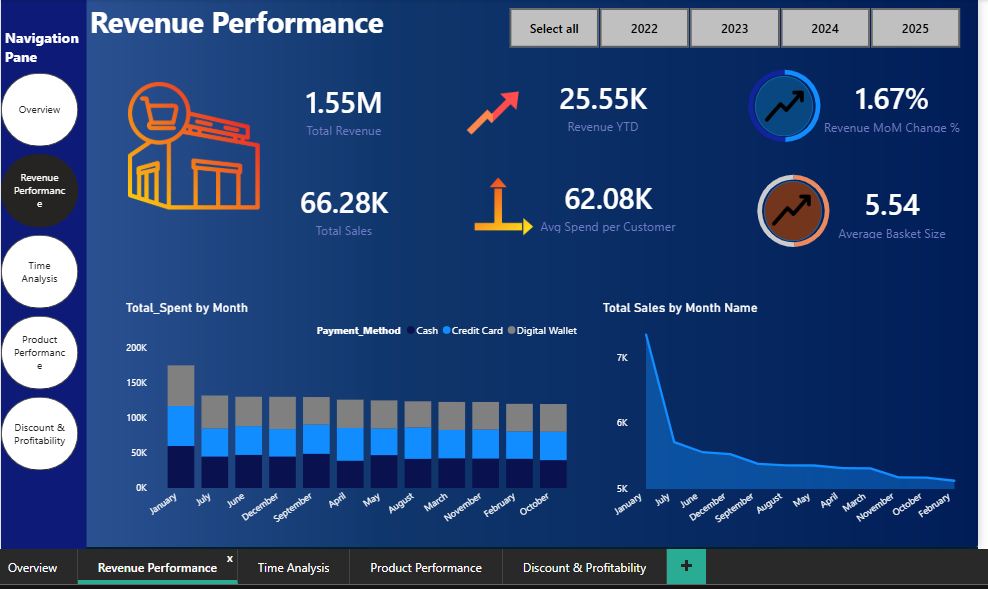

The dashboard page shown, as its layout file describes it:
{"tool":"powerbi","page":{"name":"Revenue Performance","canvas":[1280,720],"ordinal":1},"visuals":[{"type":"textbox","box":[0,0,111.9,720.4],"z":0,"group":"g3"},{"type":"donutChart","fields":{"Y":["clean_retail_sales.Revenue Previous Month","clean_retail_sales.Total Revenue"]},"box":[942,75.9,166,128],"z":0,"group":"g1"},{"type":"card","fields":{"Values":["clean_retail_sales.Total Revenue"]},"box":[346.8,105.8,204.2,77.9],"z":0},{"type":"donutChart","fields":{"Y":["clean_retail_sales.Revenue Previous Month","clean_retail_sales.Total Revenue"]},"box":[954.4,213.7,166,128],"z":0,"group":"g2"},{"type":"pageNavigator","box":[0,97,101.4,524.6],"z":1000,"group":"g3"},{"type":"card","fields":{"Values":["clean_retail_sales.Revenue MoM Change %"]},"box":[1063.8,100.4,204.2,79.3],"z":1000},{"type":"shape","box":[987,100.9,76,79],"z":1000,"group":"g1"},{"type":"shape","box":[999.4,238.7,76,79],"z":1000,"group":"g2"},{"type":"textbox","box":[0,32.3,142.5,64.7],"z":2000,"group":"g3"},{"type":"card","fields":{"Values":["clean_retail_sales.Revenue YTD"]},"box":[692.1,100.5,191,77.9],"z":2000},{"type":"image","box":[982,104.9,85,71],"z":2000,"group":"g1"},{"type":"image","box":[992.5,241.5,85,71.2],"z":2000,"group":"g2"},{"type":"lineChart","fields":{"Y":["Dim_date.Total Sales"],"Category":["Dim_date.Month Name"]},"box":[783.2,393.8,484.9,314.4],"z":3000},{"type":"columnChart","title":"Total_Spent by Month","fields":{"Y":["Sum(clean_retail_sales.Total_Spent)"],"Category":["Dim_date.Month Name"],"Series":["clean_retail_sales.Payment_Method"]},"box":[158.7,393.8,605.4,314.4],"z":4000},{"type":"card","fields":{"Values":["Dim_date.Total Sales"]},"box":[346.8,235.1,204.2,80.8],"z":5000},{"type":"card","fields":{"Values":["clean_retail_sales.Average Basket Size"]},"box":[1063.8,240,204.2,79.3],"z":6000},{"type":"card","fields":{"Values":["clean_retail_sales.Avg Spend per Customer"]},"box":[692.1,229.8,204.2,80.8],"z":7000},{"type":"group","id":"g1","title":"Group 1","box":[942,75.9,166,128],"z":8000},{"type":"group","id":"g2","title":"Group 1","box":[954.4,213.7,166,128],"z":9000},{"type":"image","box":[158.7,47,188.1,289.5],"z":10000},{"type":"image","box":[611.3,209.2,94,123.4],"z":11000},{"type":"image","box":[605.4,94.6,77.9,110.2],"z":12000},{"type":"group","id":"g3","title":"Group 1","box":[0,0,142.5,720.4],"z":13000},{"type":"textbox","box":[111.7,0,476.1,72],"z":14000},{"type":"slicer","fields":{"Values":["Dim_date.Year"]},"box":[640.7,5.9,639.2,64.7],"z":15000}]}

Visuals, with their boxes on the page's 1280x720 design canvas (x1, y1, x2, y2). These are canvas units, not pixel positions in the 988x589 screenshot, which may show the page scaled, cropped or inside an application window:
textbox: left=0, top=0, right=112, bottom=720
donutChart - clean_retail_sales.Revenue Previous Month x clean_retail_sales.Total Revenue: left=942, top=76, right=1108, bottom=204
card - clean_retail_sales.Total Revenue: left=347, top=106, right=551, bottom=184
donutChart - clean_retail_sales.Revenue Previous Month x clean_retail_sales.Total Revenue: left=954, top=214, right=1120, bottom=342
pageNavigator: left=0, top=97, right=101, bottom=622
card - clean_retail_sales.Revenue MoM Change %: left=1064, top=100, right=1268, bottom=180
shape: left=987, top=101, right=1063, bottom=180
shape: left=999, top=239, right=1075, bottom=318
textbox: left=0, top=32, right=142, bottom=97
card - clean_retail_sales.Revenue YTD: left=692, top=100, right=883, bottom=178
image: left=982, top=105, right=1067, bottom=176
image: left=992, top=242, right=1078, bottom=313
lineChart - Dim_date.Total Sales x Dim_date.Month Name: left=783, top=394, right=1268, bottom=708
"Total_Spent by Month" columnChart: left=159, top=394, right=764, bottom=708
card - Dim_date.Total Sales: left=347, top=235, right=551, bottom=316
card - clean_retail_sales.Average Basket Size: left=1064, top=240, right=1268, bottom=319
card - clean_retail_sales.Avg Spend per Customer: left=692, top=230, right=896, bottom=311
"Group 1" group: left=942, top=76, right=1108, bottom=204
"Group 1" group: left=954, top=214, right=1120, bottom=342
image: left=159, top=47, right=347, bottom=336
image: left=611, top=209, right=705, bottom=333
image: left=605, top=95, right=683, bottom=205
"Group 1" group: left=0, top=0, right=142, bottom=720
textbox: left=112, top=0, right=588, bottom=72
slicer - Dim_date.Year: left=641, top=6, right=1280, bottom=71
